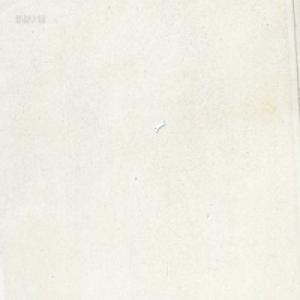Wrench: (154, 119, 165, 133)
